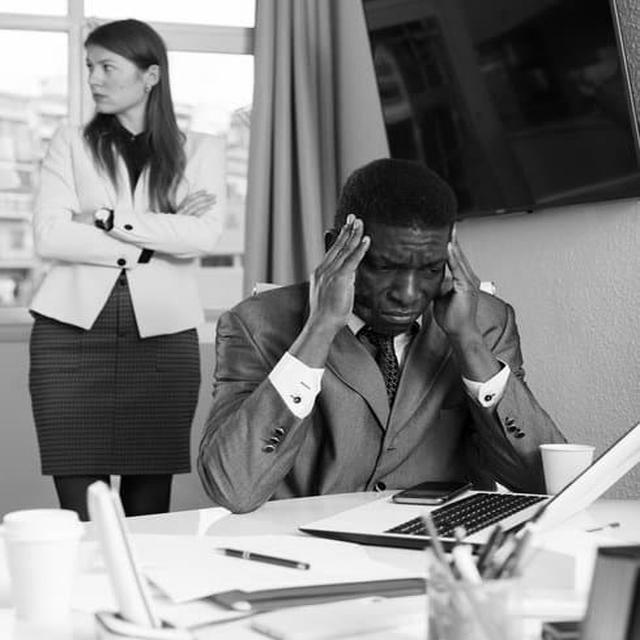Sadness: (364, 222, 448, 331)
